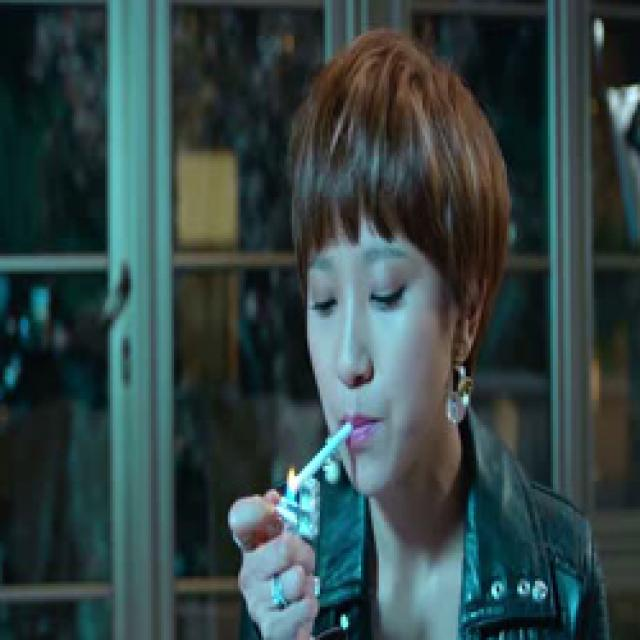Smooking: (278, 417, 357, 499)
